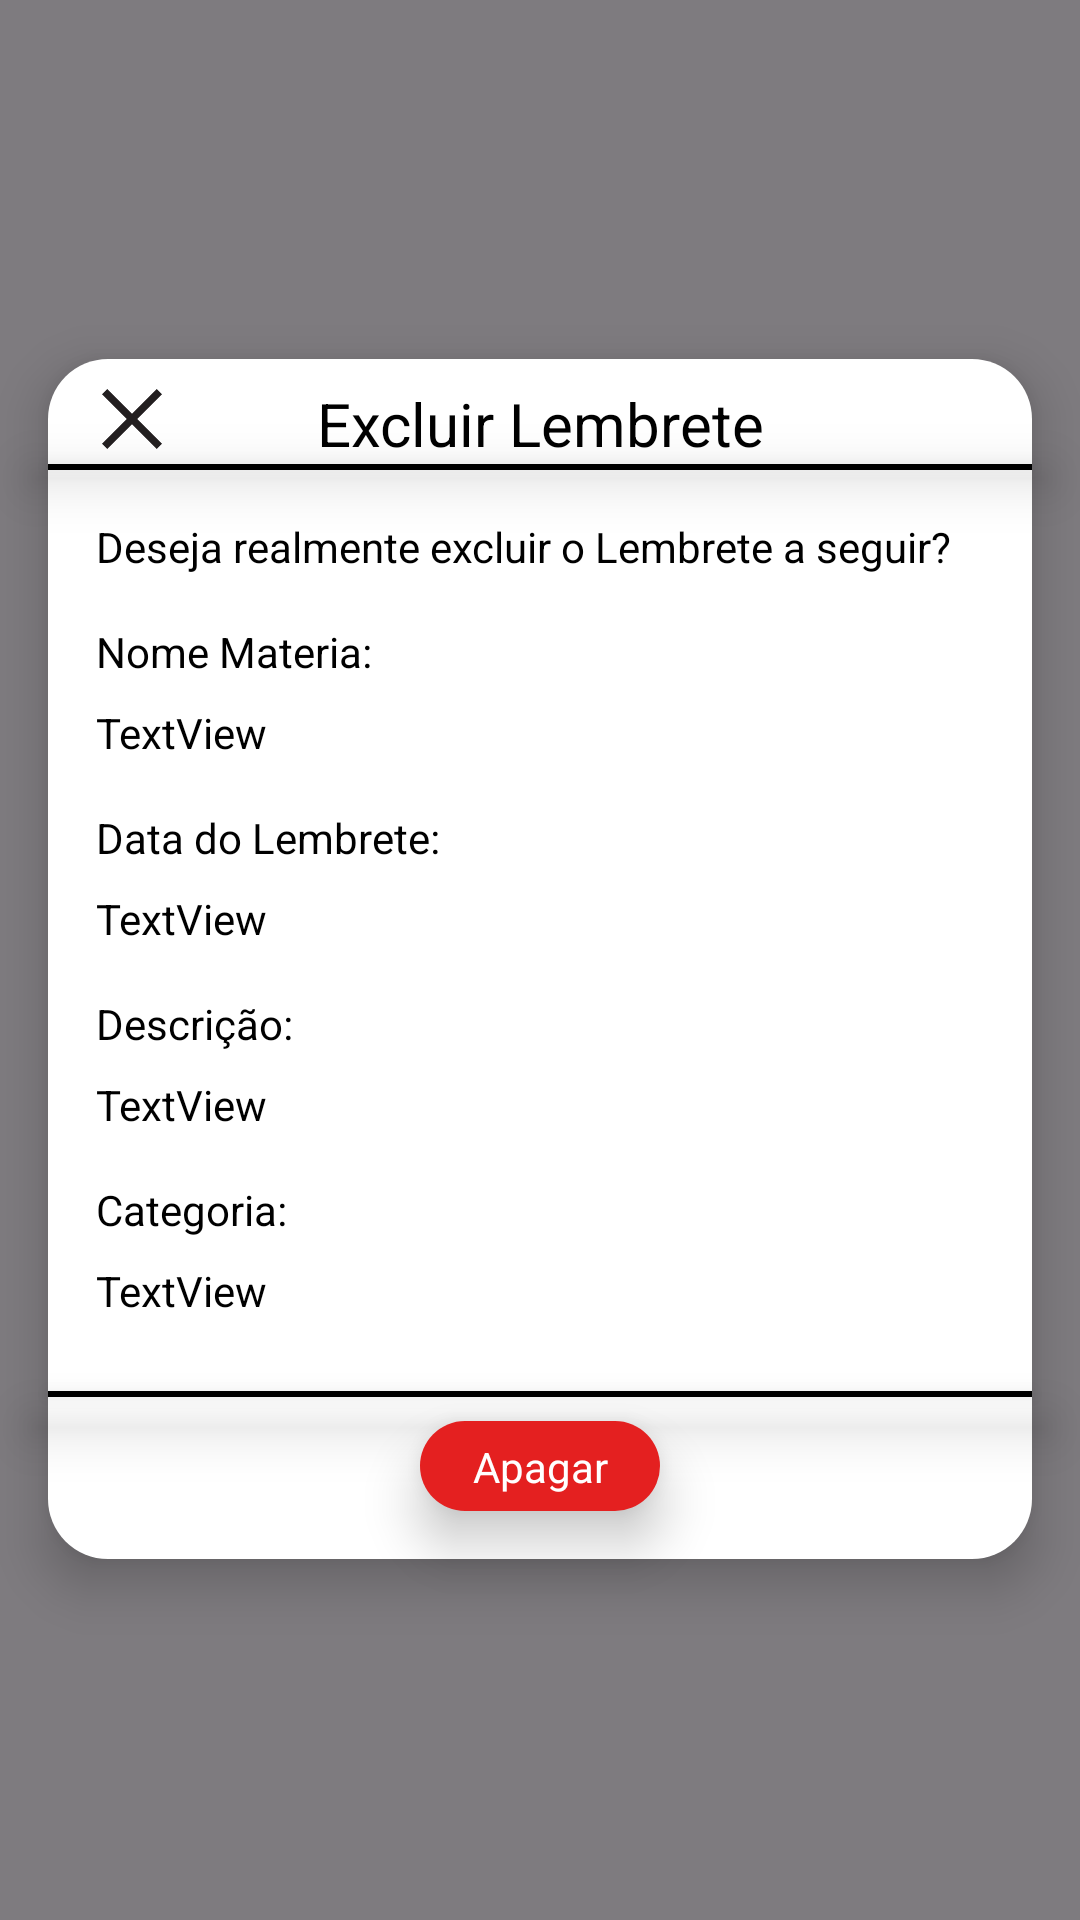

Point at icon controls on the screen. Image size 1080 x 1920, points as (x,y).
close: (132,419)
